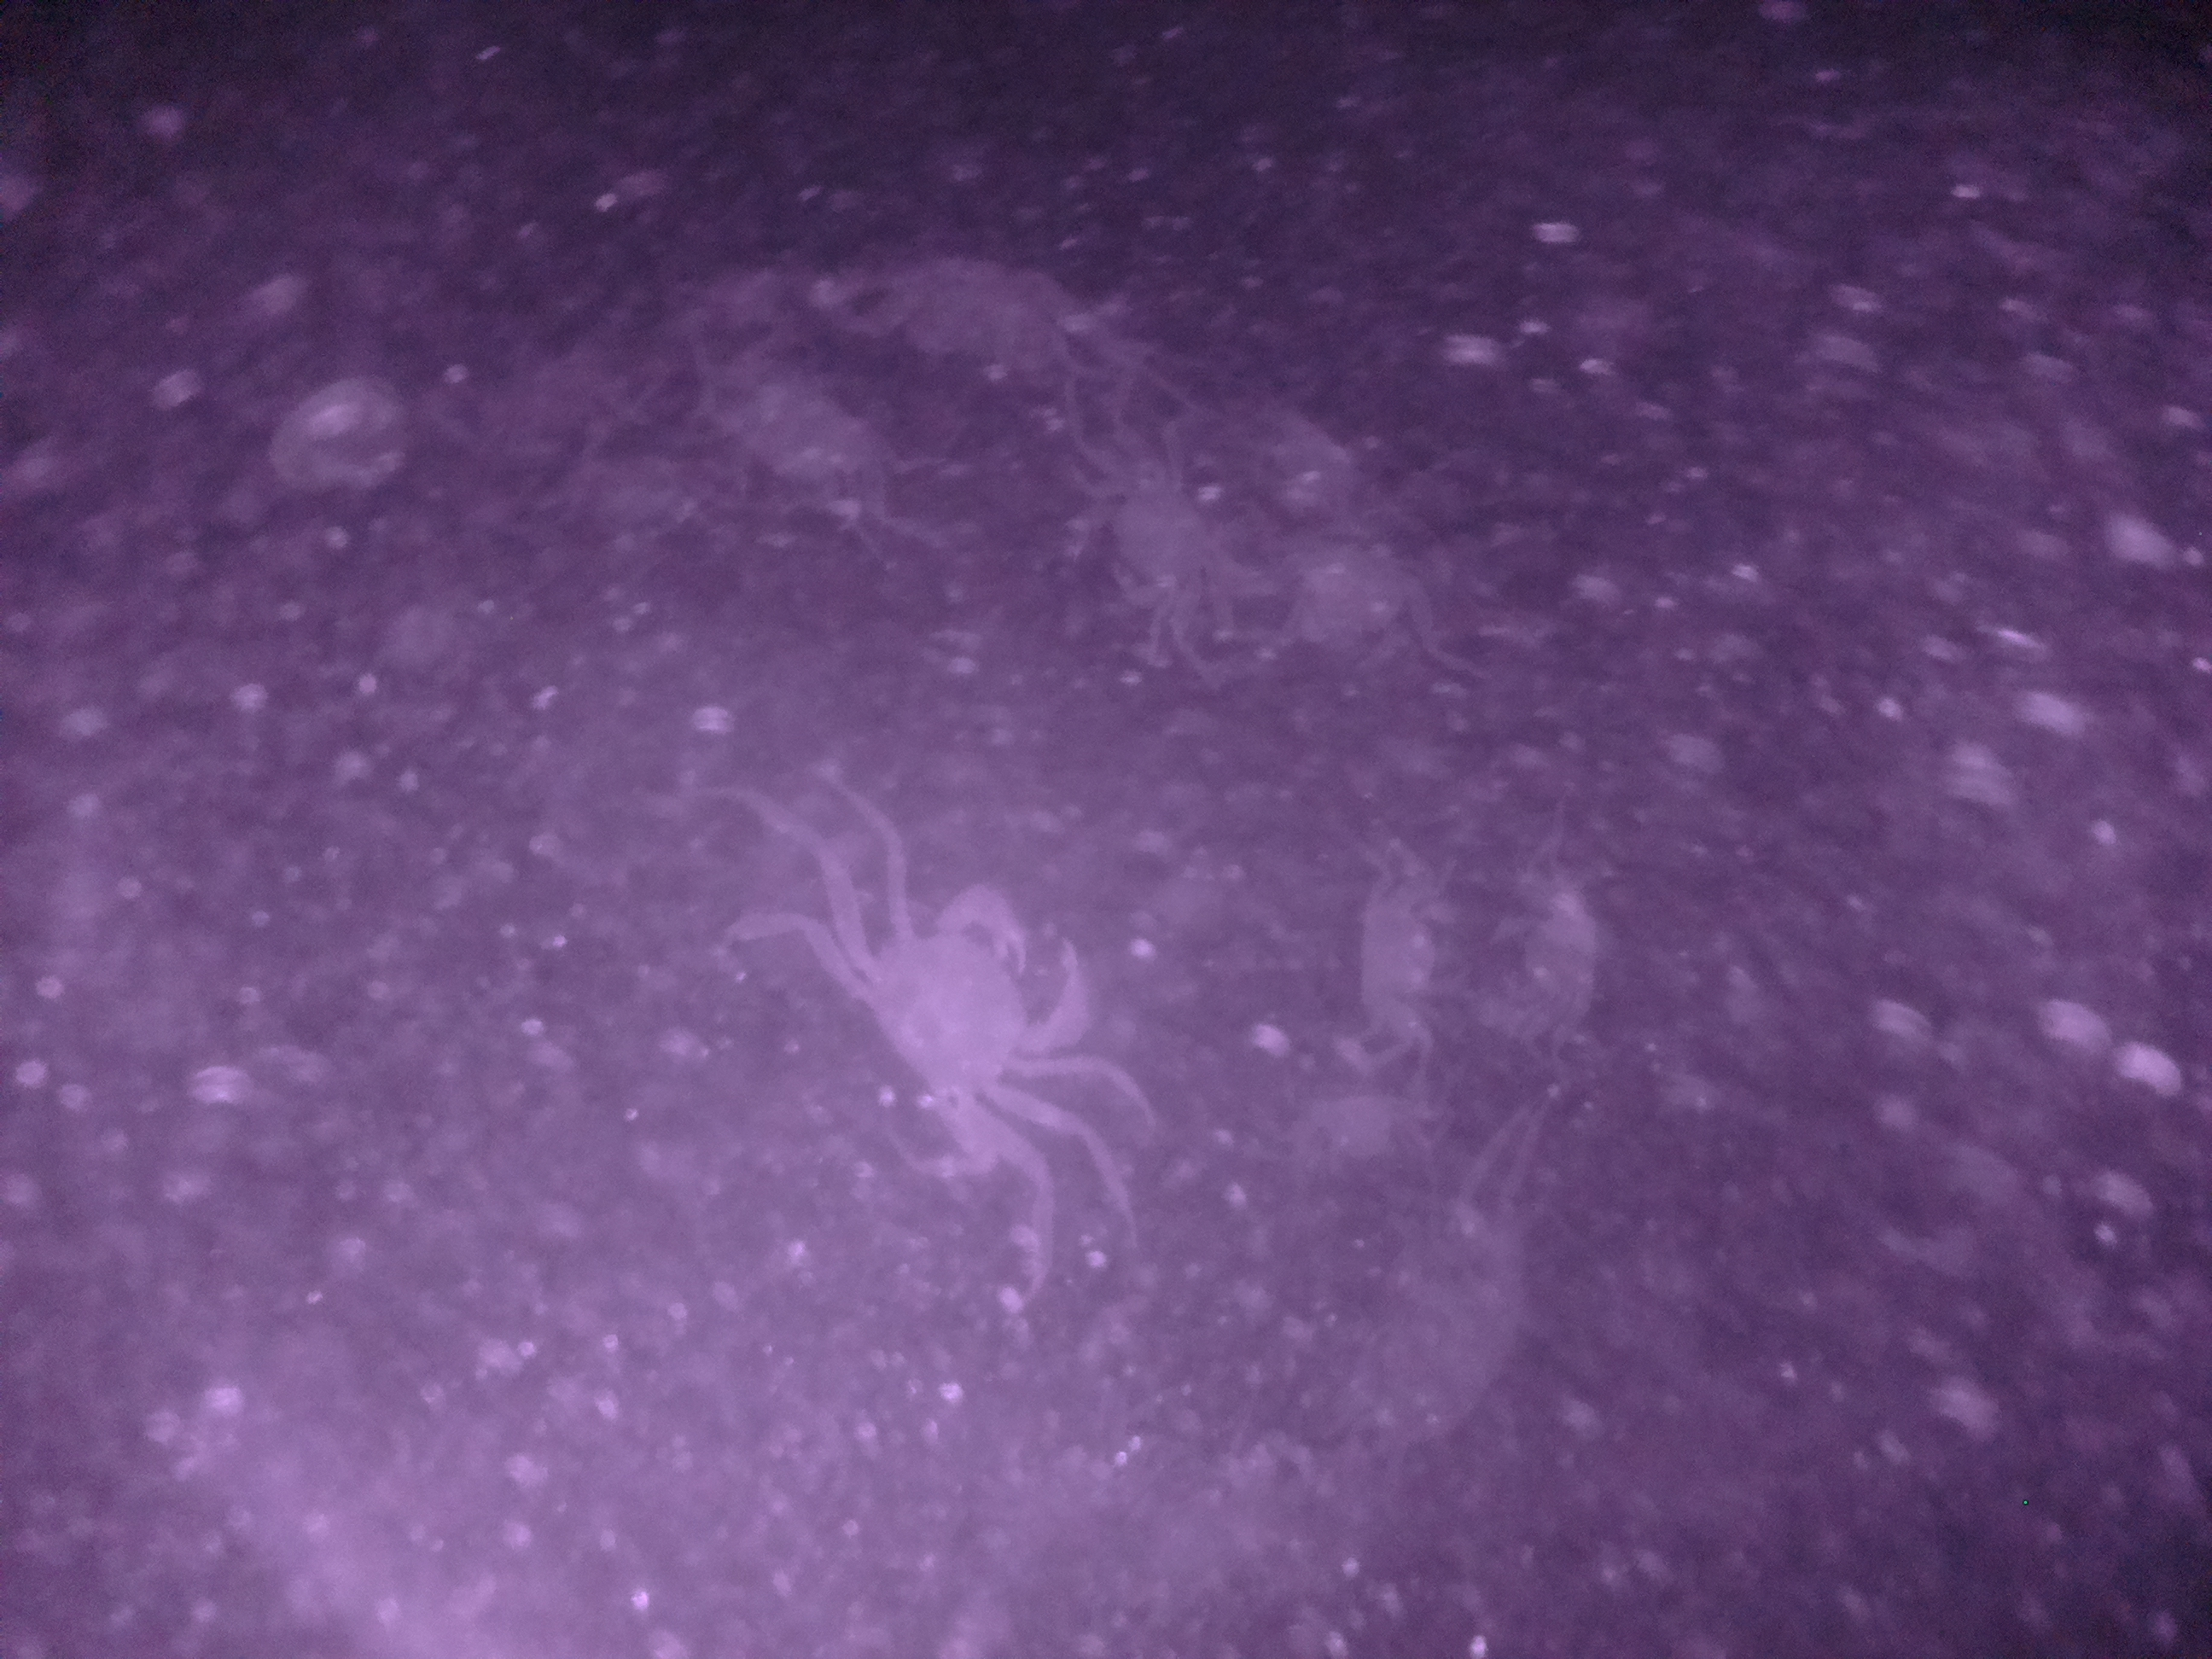Crab: (829, 857, 1127, 1176), (1334, 859, 1472, 1054), (1076, 446, 1216, 617)
